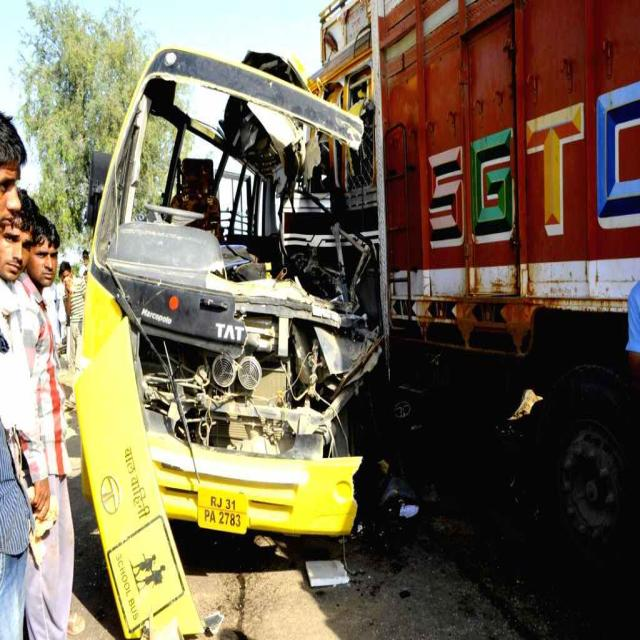accident: (75, 47, 381, 637)
